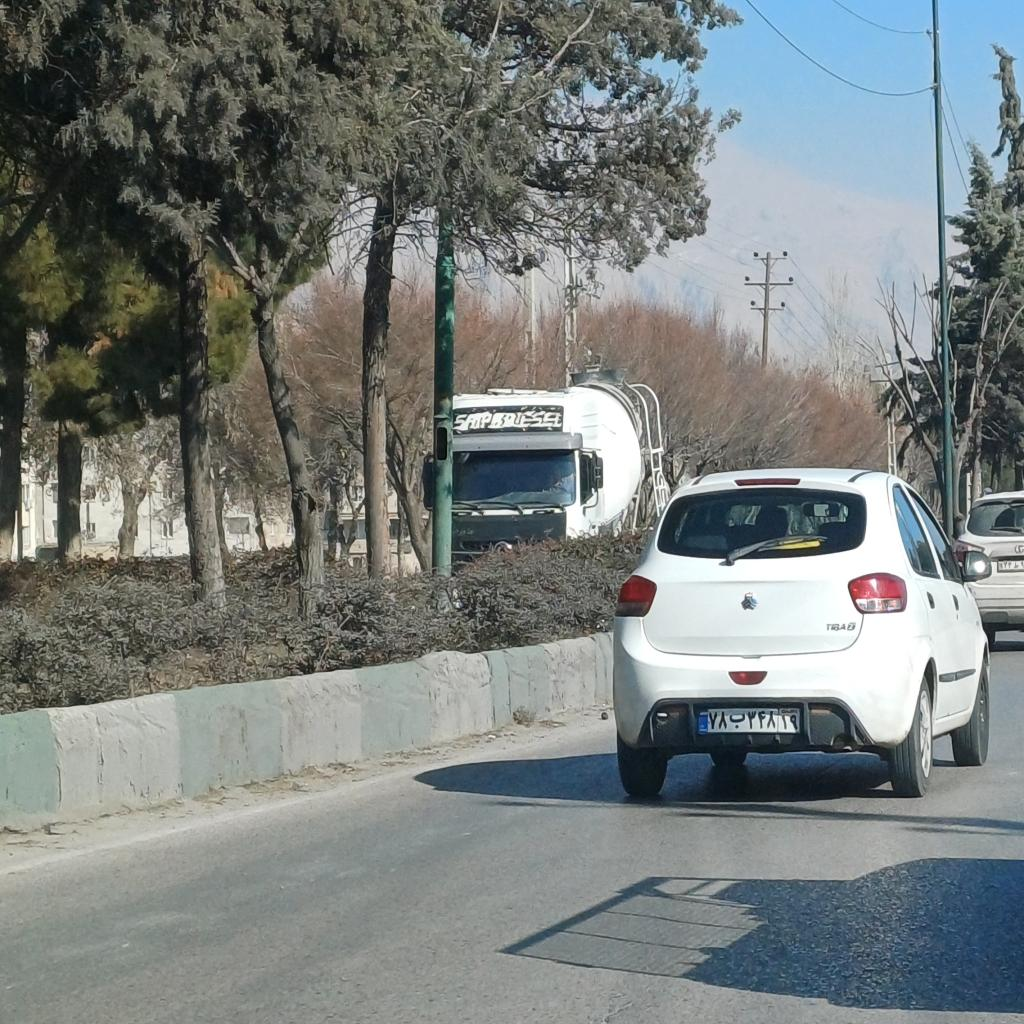Plates: (698, 706, 800, 732)
